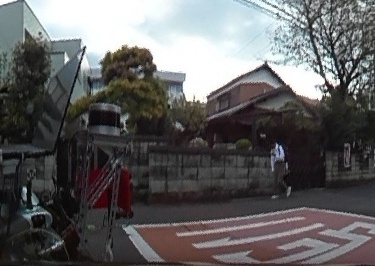person: (267, 137, 291, 199)
